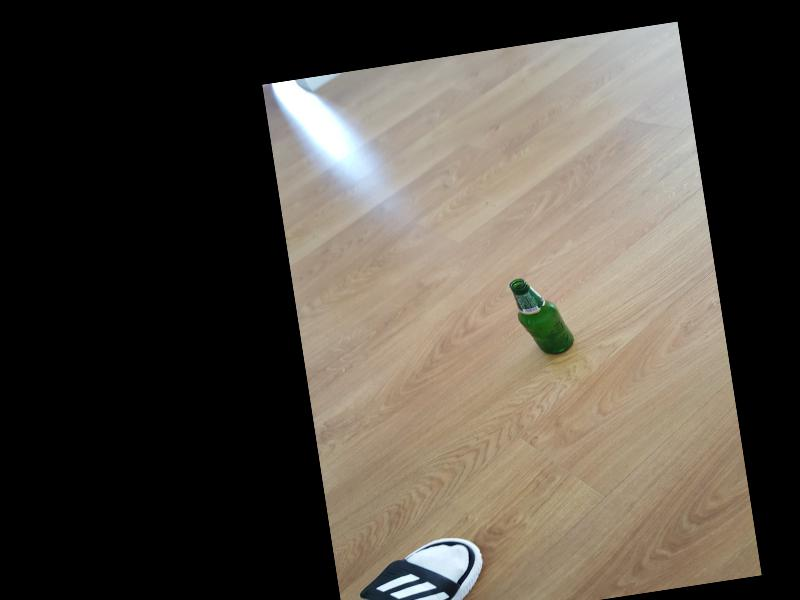Beer: (509, 274, 573, 359)
